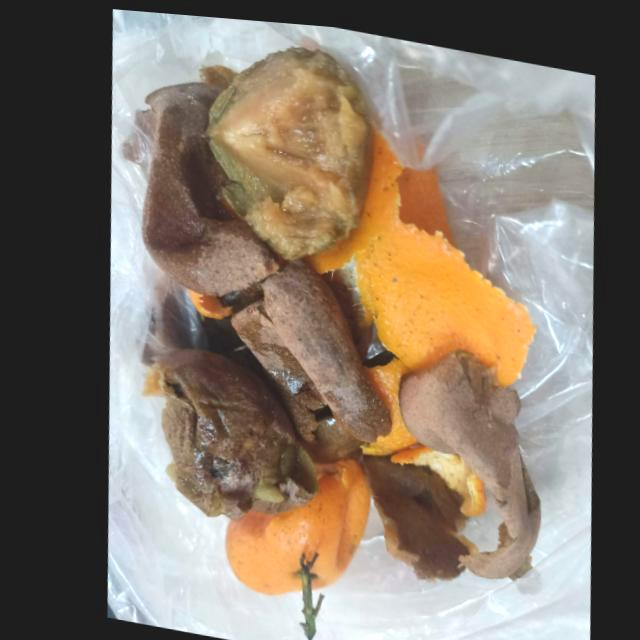left_over_food: (203, 41, 372, 256), (133, 345, 308, 518)
